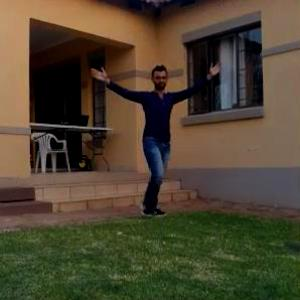takeoff: (88, 56, 222, 224)
